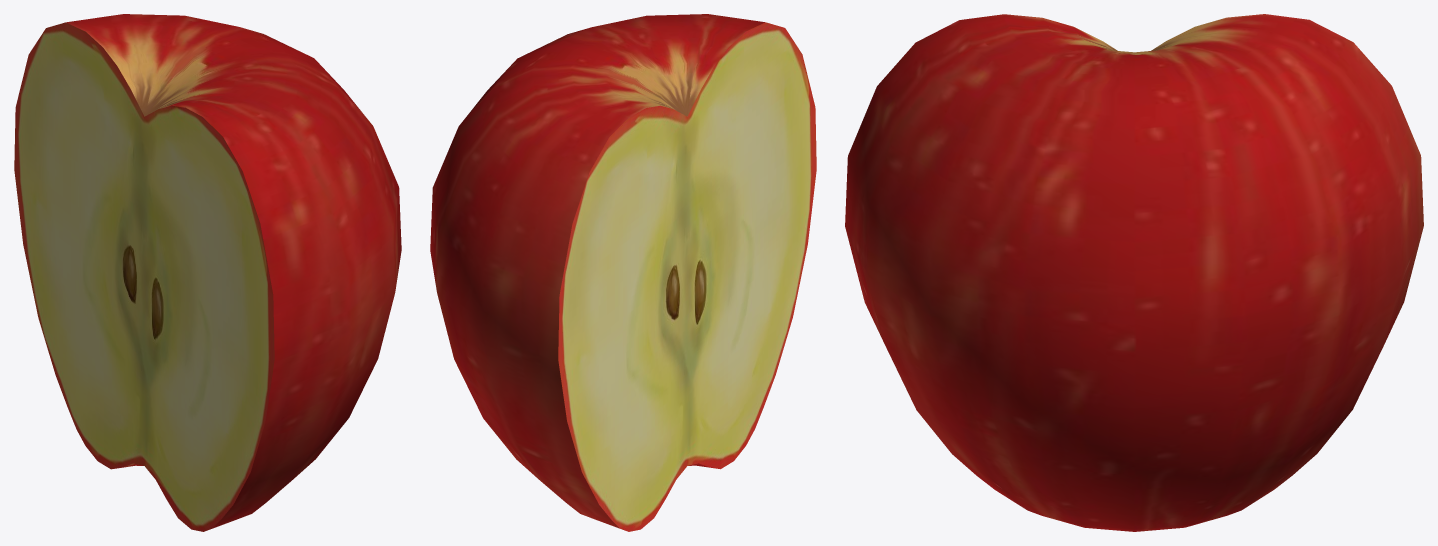
The model's file is apple_cut.glb.
3 views of the same model, side by side, from view 1: azimuth 30°, elevation 25°; view 2: azimuth 150°, elevation 25°; view 3: azimuth 270°, elevation 25° (orthographic). The views are drawn at different scales.
Parts seen in each view (by area): view 1: Apple_cut; view 2: Apple_cut; view 3: Apple_cut.
Part boxes in pixels (x1=…): Apple_cut: x1=14, y1=14, x2=401, y2=531; Apple_cut: x1=430, y1=14, x2=816, y2=531; Apple_cut: x1=845, y1=14, x2=1423, y2=531.
Bounding box in the file's own units: 0.0557 × 0.0996 × 0.1113.
Materials: 2 (2 with a texture image).
